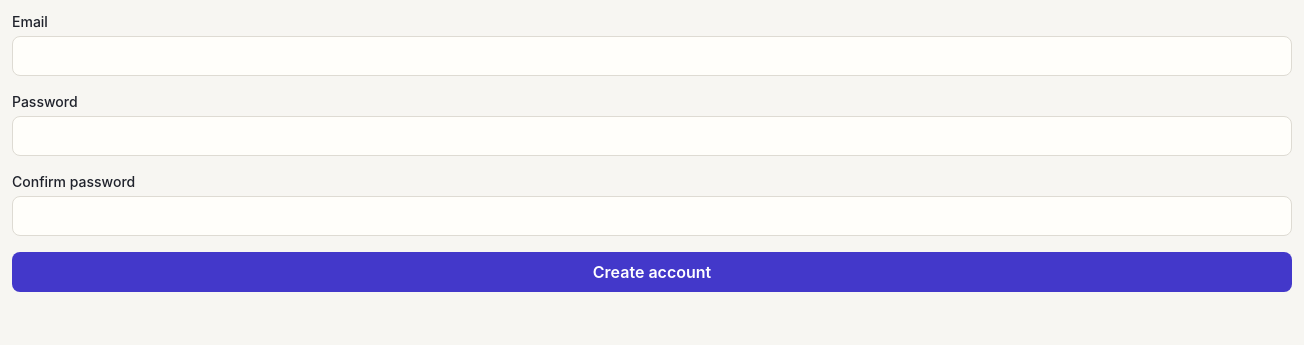
Test: SignupForm › shows a safe Supabase error
Step 1. Type "person@example.test" into the field labelled "Email" → (652, 56), box [12,36,1292,76]
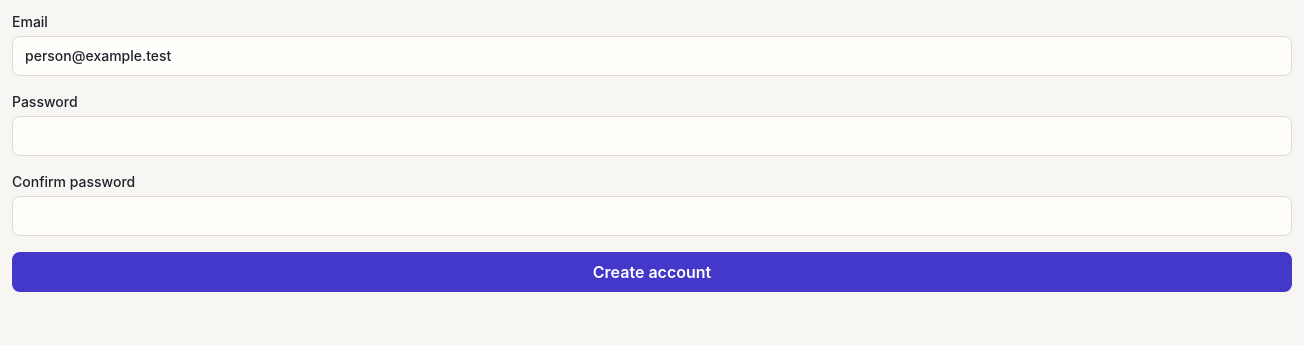
Step 2. Type "password" into the password field labelled "Password" → (652, 136), box [12,116,1292,156]
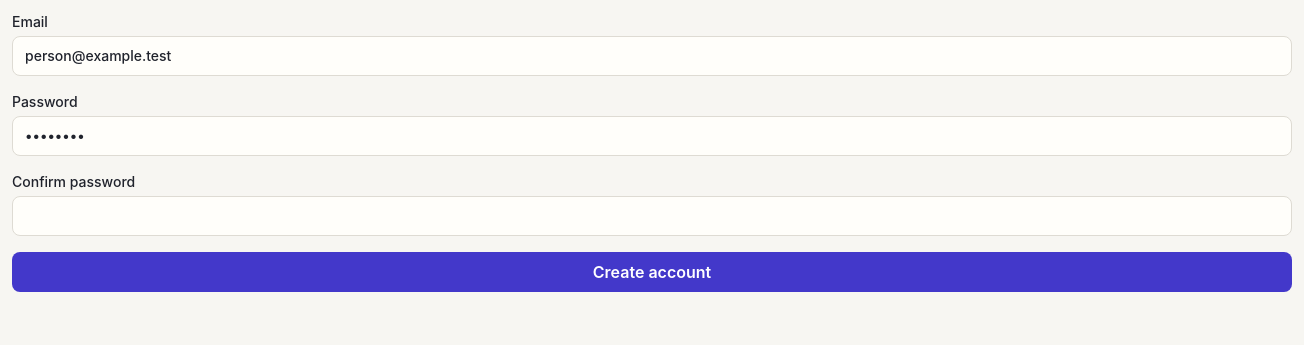
Step 3. Type "password" into the password field labelled "Confirm password" → (652, 216), box [12,196,1292,236]
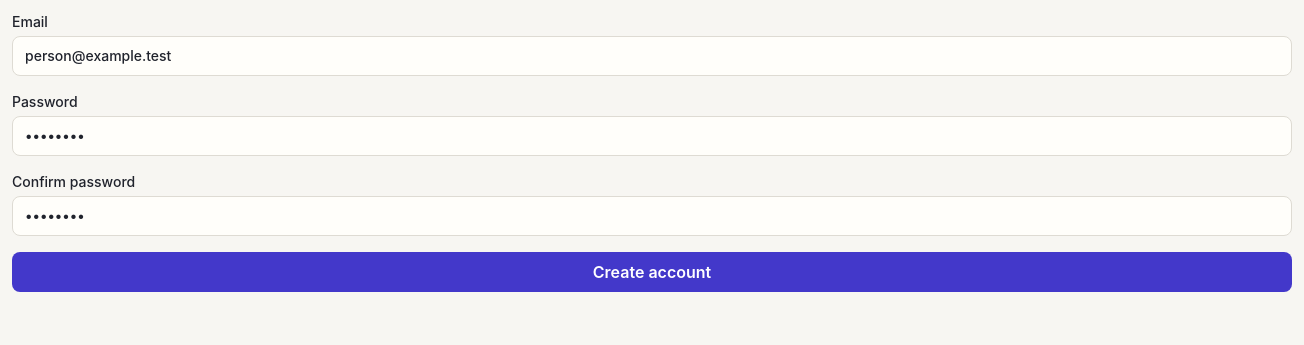
Step 4. Click the button "Create account" → (652, 272), box [12,252,1292,292]
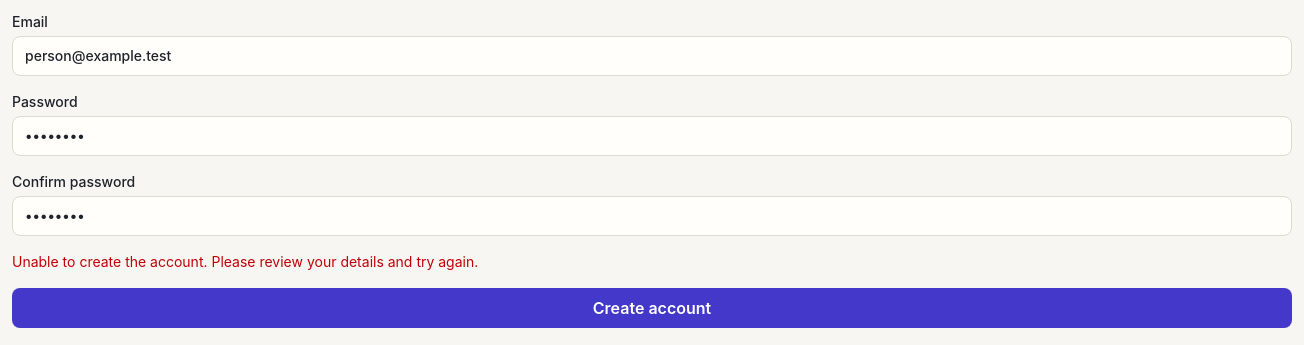
Expected: the message shows "Unable to create the account", [12,253,478,270]
